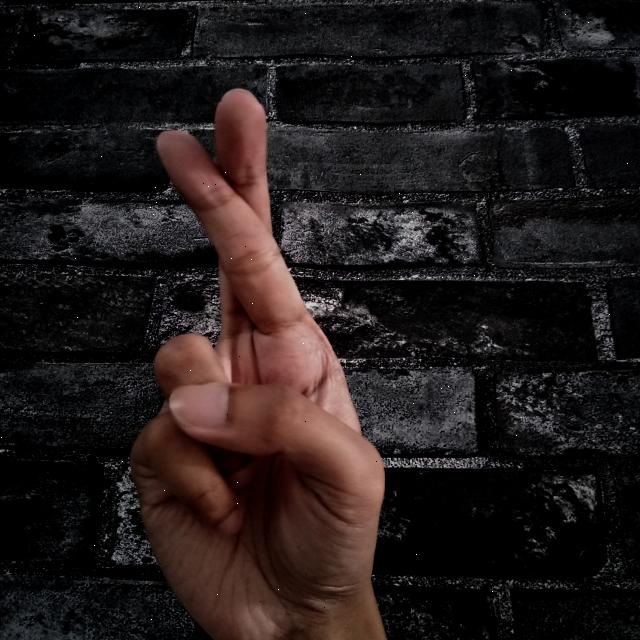R: (121, 81, 403, 640)
